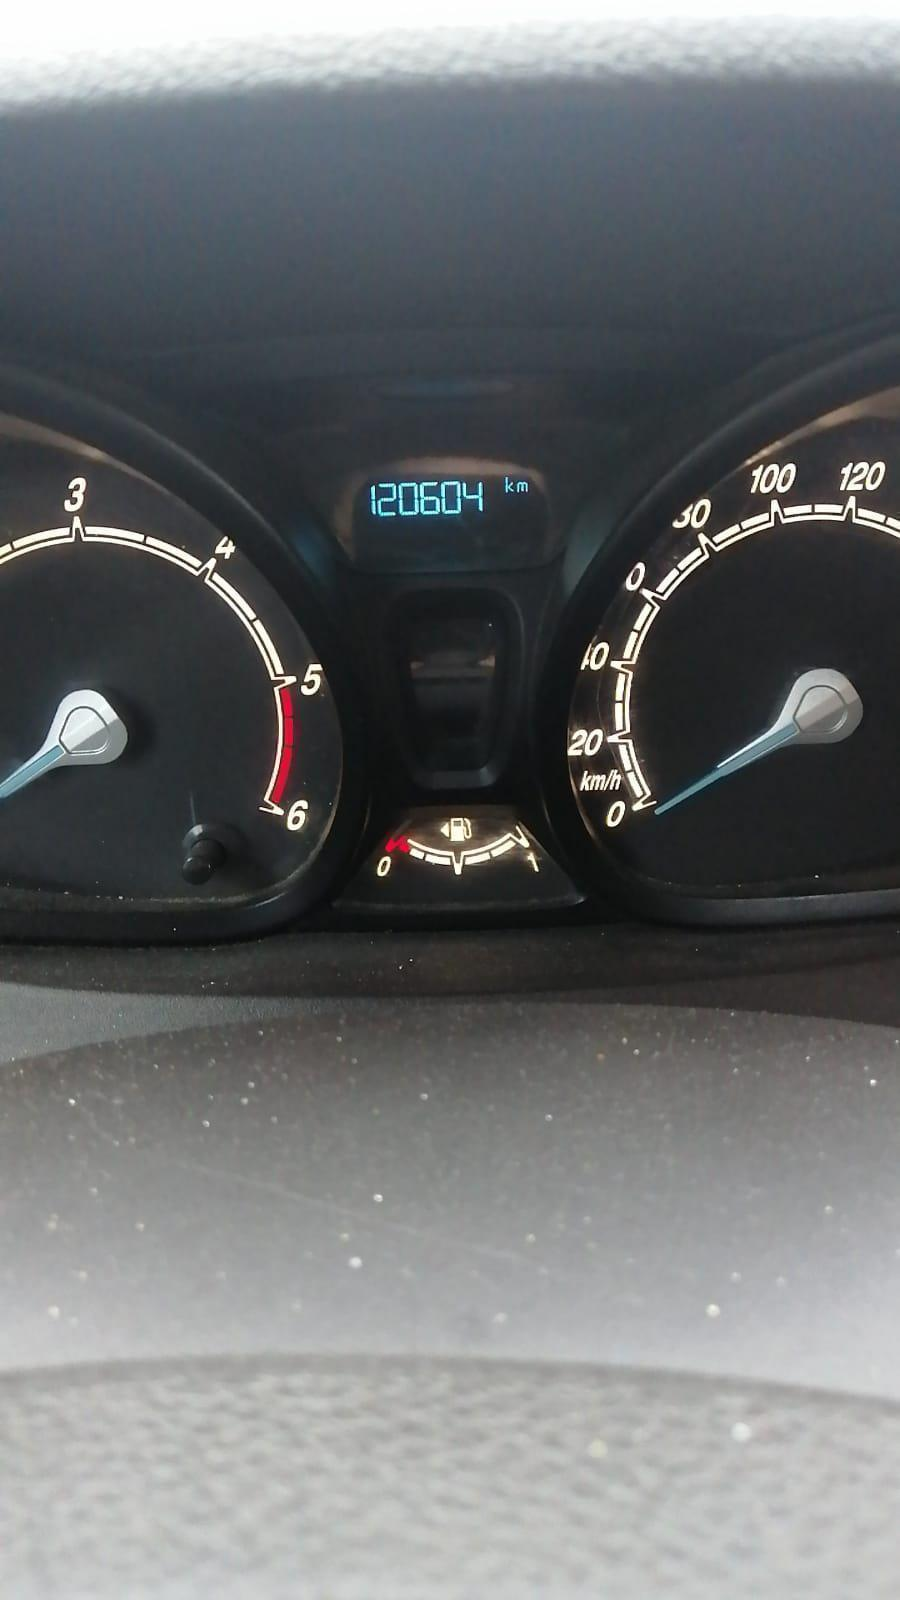0: (440, 479, 462, 516), (398, 480, 419, 516)
1: (369, 481, 376, 516)
2: (376, 481, 397, 516)
4: (462, 478, 485, 513)
6: (419, 479, 438, 516)
X: (503, 474, 514, 495), (515, 480, 527, 495)
odometer: (351, 464, 547, 549)
